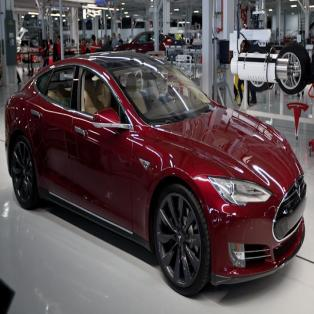Auto: (4, 53, 307, 296)
